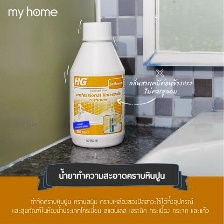cleaning_solution: (65, 20, 127, 151)
